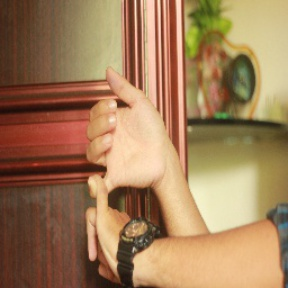S: (78, 65, 174, 285)
